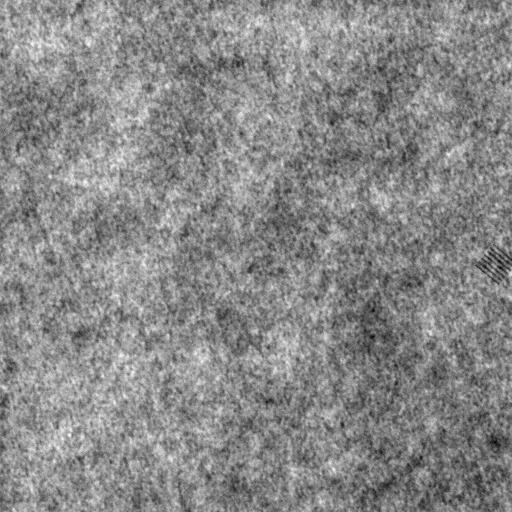impact: (474, 242, 512, 285)
